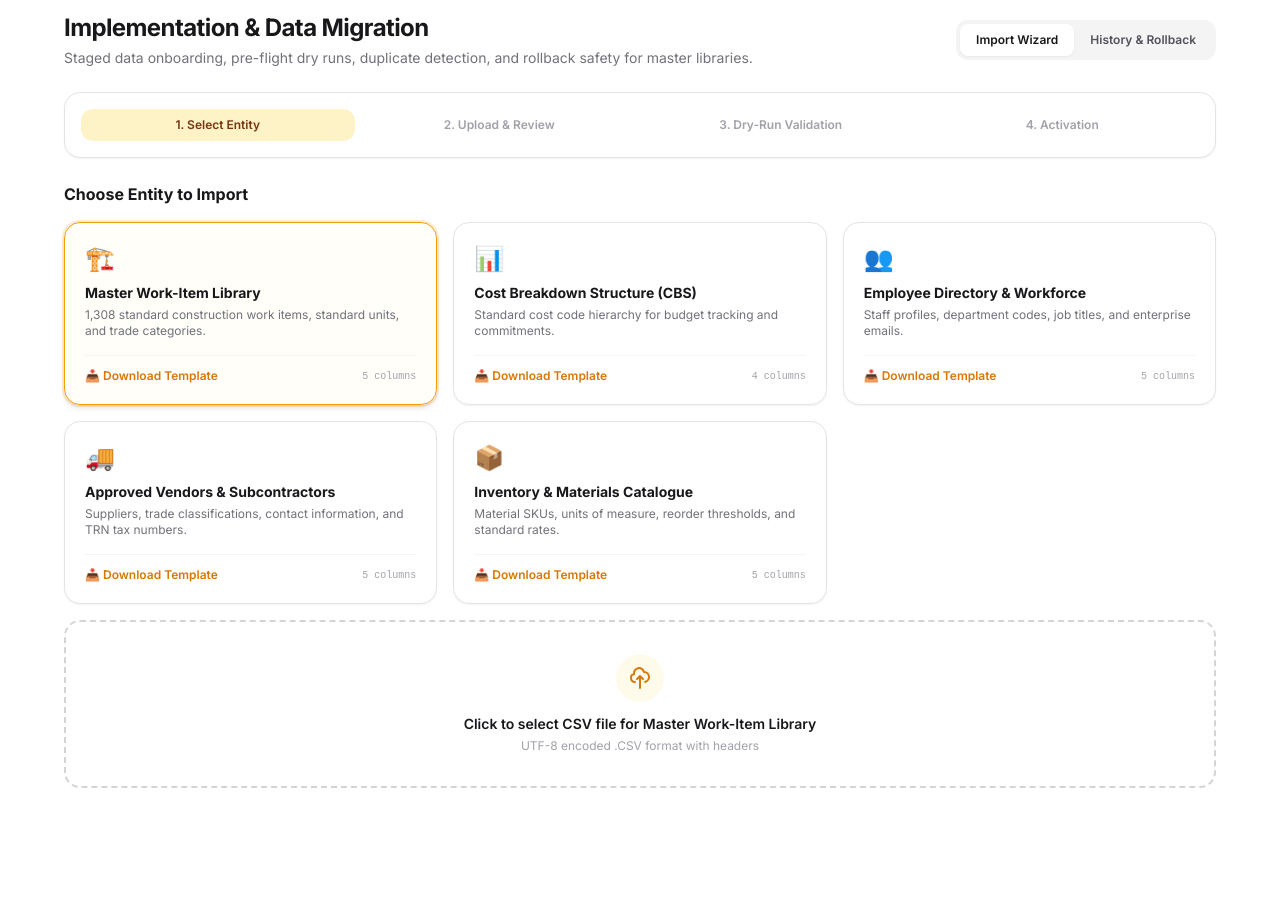
Test: Module M38: Implementation & Data Migration Page › switches to History & Rollback tab and displays audit history
Click the button "History & Rollback" at (1143, 40), box [1074,24,1212,56]
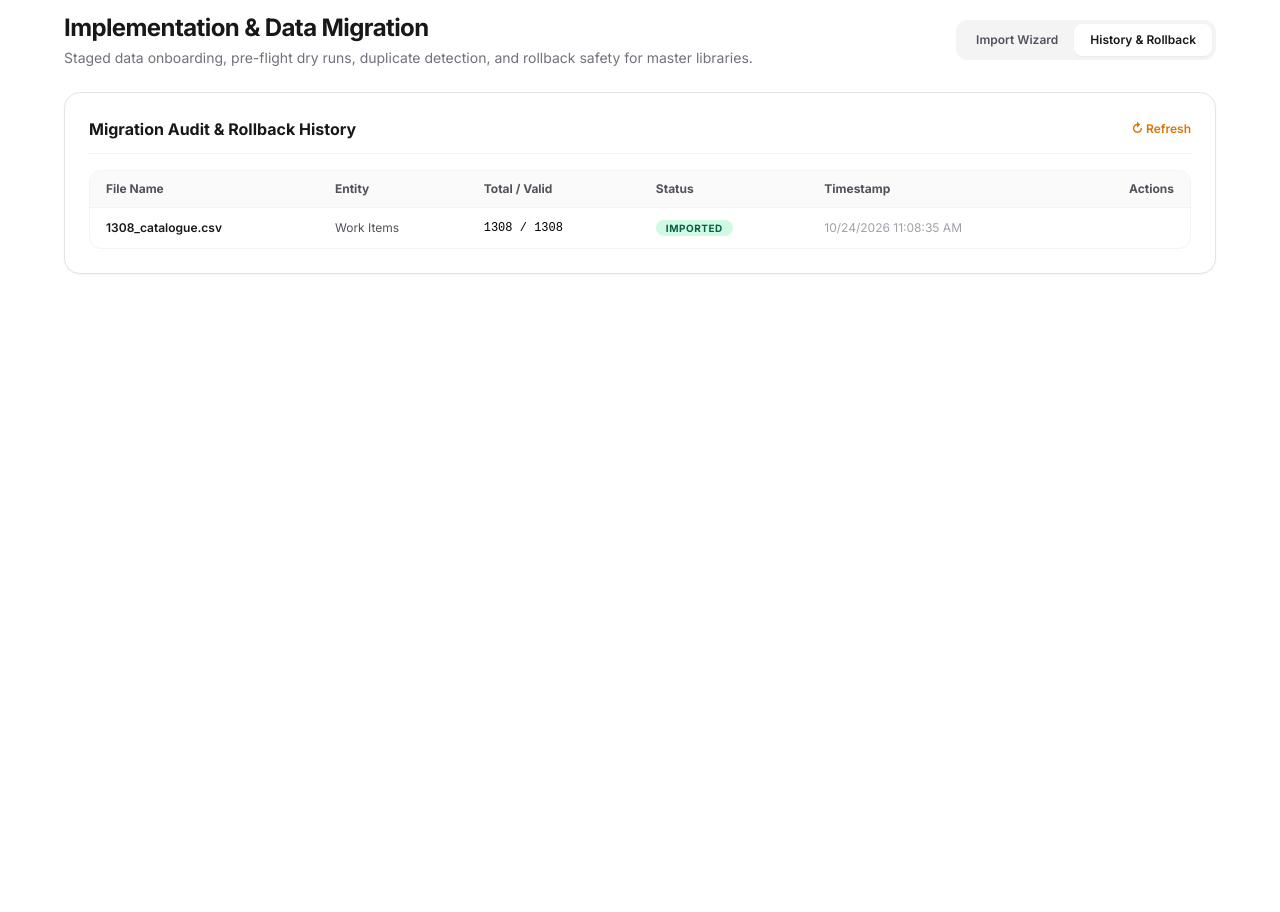
Expected: the text "1308_catalogue.csv" is shown, [90,208,319,248]
Expected: the text "imported" is shown, [656,220,733,236]
